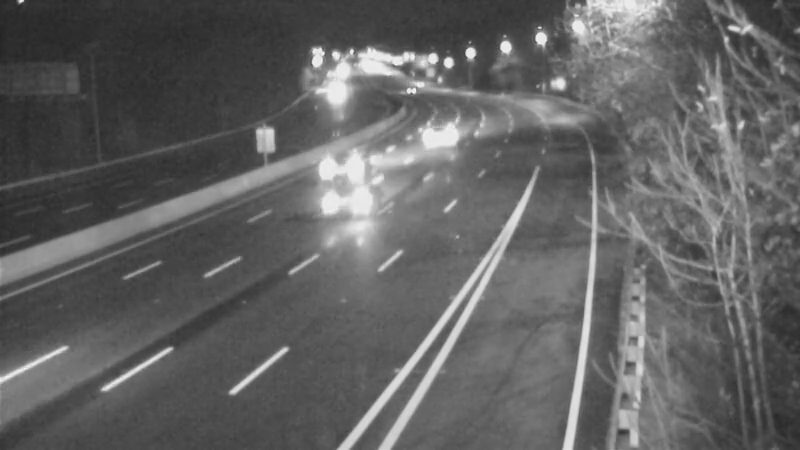vehicle: (290, 124, 370, 204), (314, 166, 394, 246), (387, 67, 437, 117), (408, 102, 458, 152), (307, 68, 357, 118)
